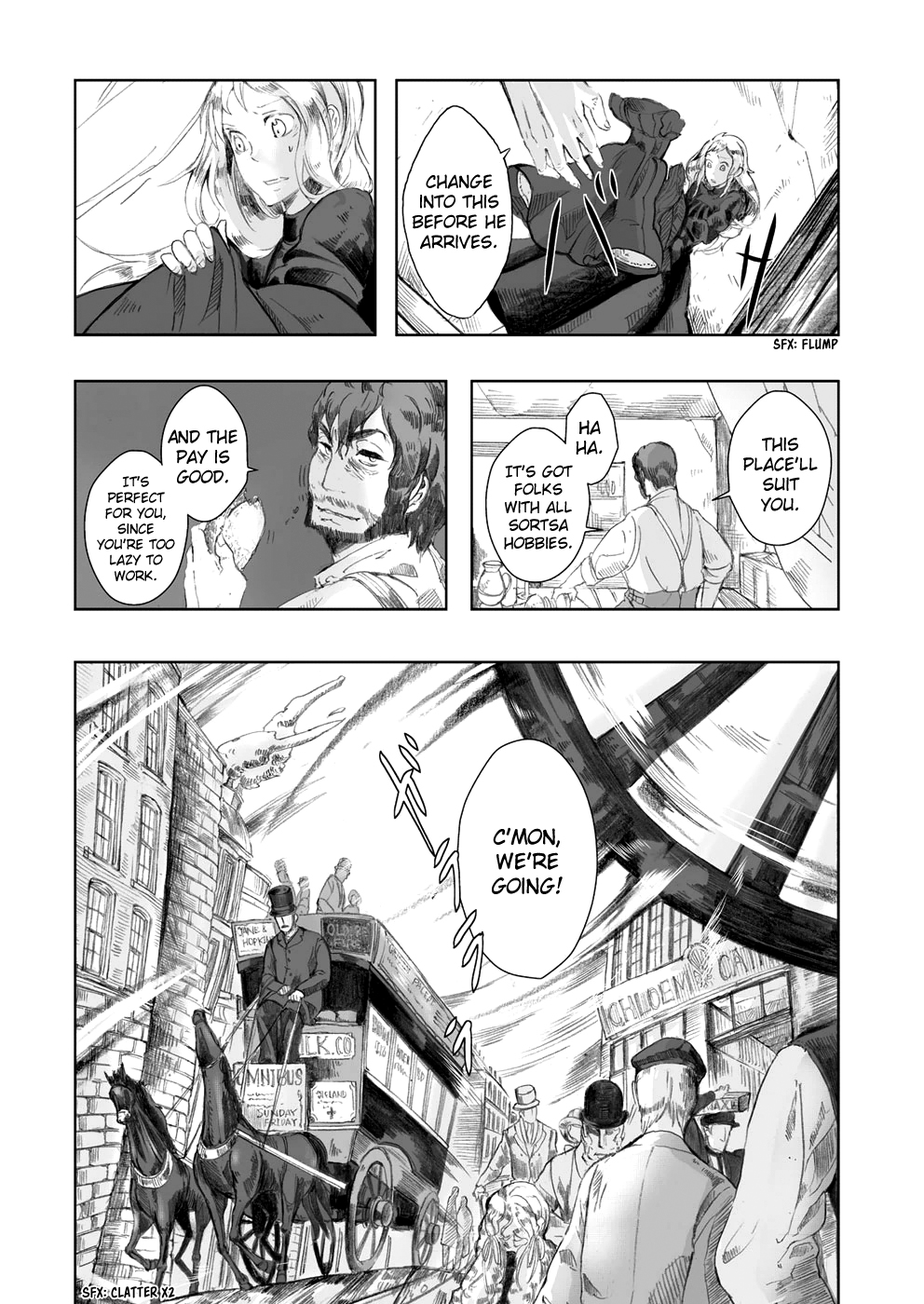bubble: (459, 738, 598, 978), (403, 105, 513, 318), (712, 390, 832, 545), (485, 427, 602, 583), (84, 449, 187, 606), (161, 384, 257, 523), (566, 392, 619, 485)
